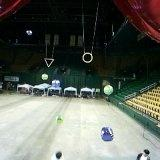Green_Balloon: (55, 114, 64, 124), (104, 84, 113, 94), (42, 74, 48, 80)
Purple_Balloon: (100, 126, 114, 142), (52, 80, 60, 89), (26, 28, 33, 36)
Yellow_Circle_GShape: (81, 51, 93, 64)
Yellow_Triangle_Gshape: (44, 58, 55, 68)
